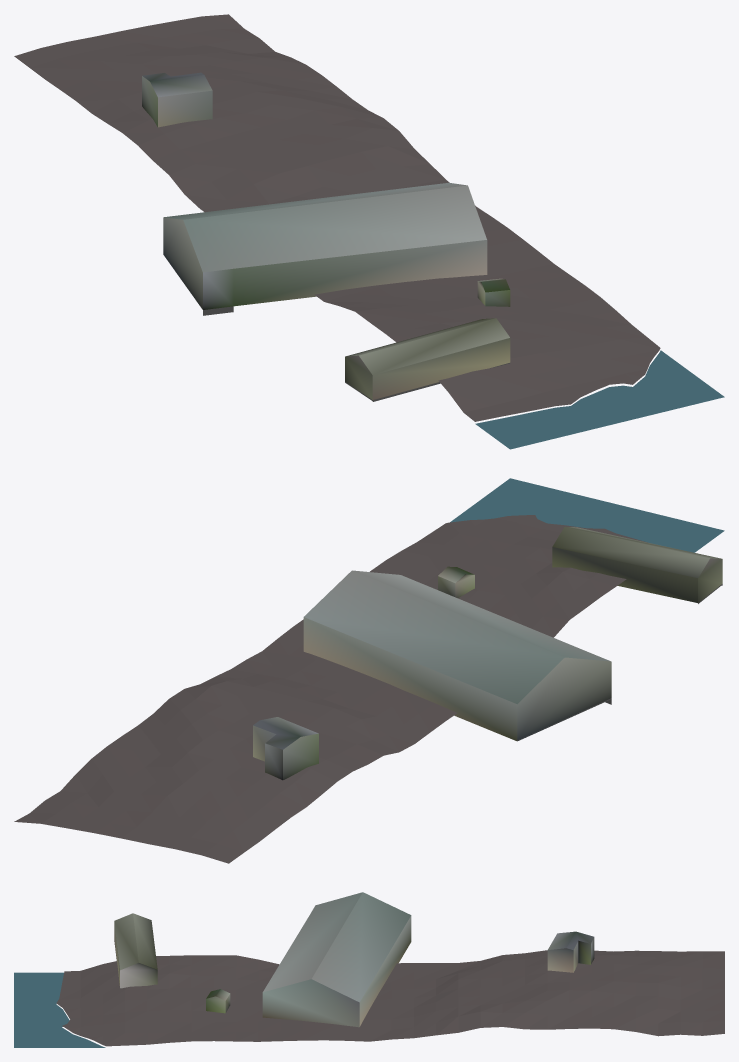
3 views of the same model, one above another, from view 1: azimuth 30°, elevation 25°; view 2: azimuth 150°, elevation 25°; view 3: azimuth 270°, elevation 25° (orthographic). The views are drawn at different scales.
Visible parts, largest first — view 1: c_p06_p07; view 2: c_p06_p07; view 3: c_p06_p07.
Boxes of the visible parts, box(x1,y1,x2,y2) form: c_p06_p07: box(14, 14, 724, 449); c_p06_p07: box(14, 478, 724, 863); c_p06_p07: box(14, 892, 724, 1047).
Bounding box in the file's own units: 46.44 × 10.4 × 128.
